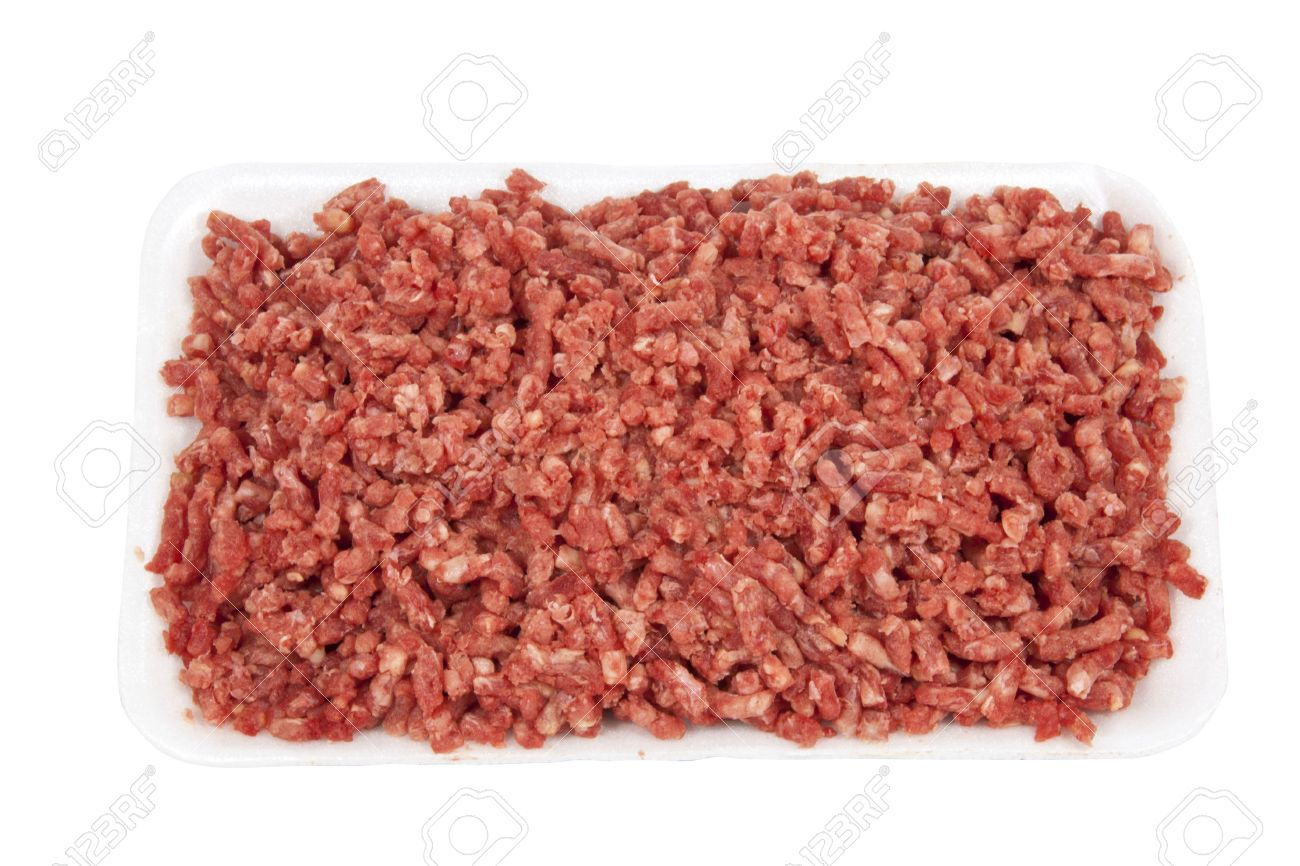ground_beef: (173, 207, 1182, 719)
